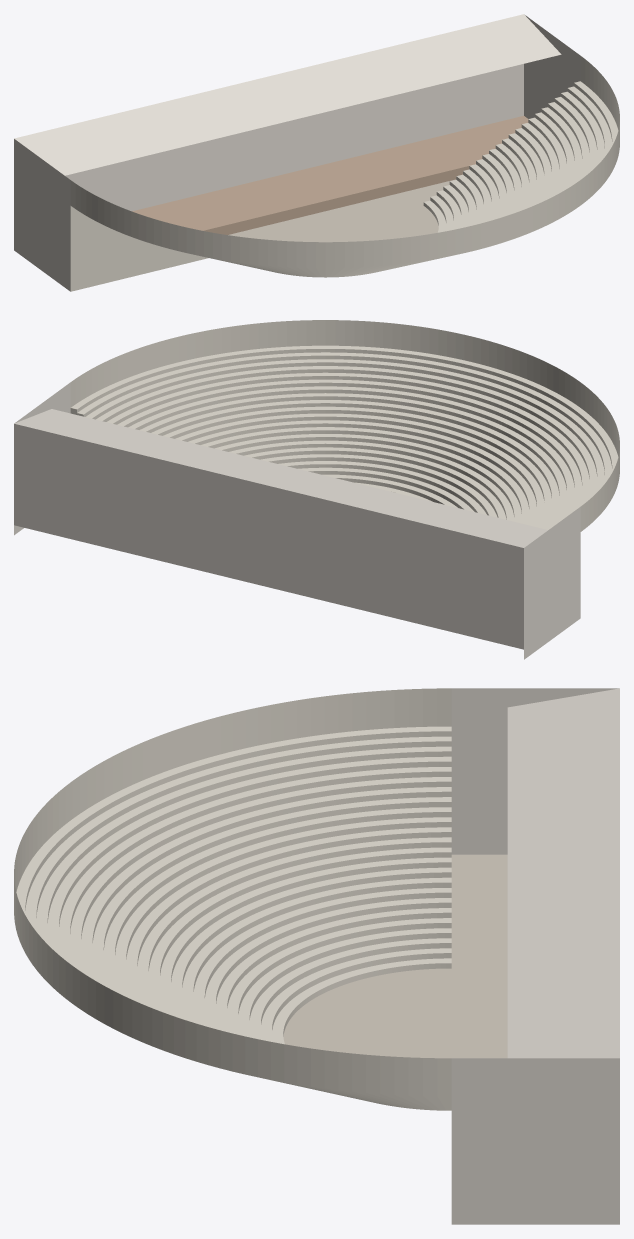
File: amphitheater.glb
3 views of the same model, one above another, from view 1: azimuth 30°, elevation 25°; view 2: azimuth 150°, elevation 25°; view 3: azimuth 270°, elevation 25° (orthographic). The views are drawn at different scales.
Visible parts, largest first — view 1: ScaenaeFrons, Seating, Stage, Orchestra; view 2: Seating, ScaenaeFrons; view 3: Seating, ScaenaeFrons, Orchestra.
Boxes of the visible parts, x1,y1,x2,y2 form: ScaenaeFrons: (14, 14, 580, 291); Seating: (70, 56, 619, 291); Stage: (132, 116, 528, 234); Orchestra: (228, 179, 455, 242); Seating: (70, 320, 619, 531); ScaenaeFrons: (14, 382, 580, 659); Seating: (14, 688, 451, 1110); ScaenaeFrons: (451, 688, 619, 1224); Orchestra: (283, 854, 507, 1058).
Bounding box in the file's own units: 62.4 × 13.08 × 43.2.
